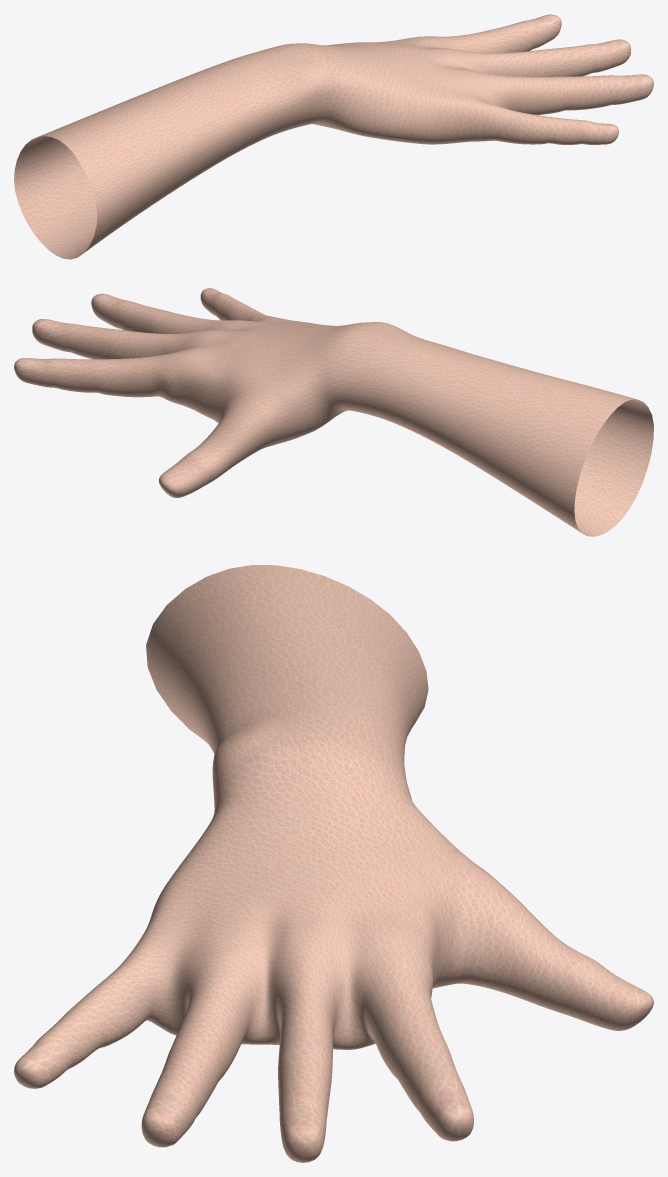
File: maoe.glb
3 renders of one model, top to bottom at view 1: azimuth 30°, elevation 25°; view 2: azimuth 150°, elevation 25°; view 3: azimuth 270°, elevation 25°, orthographic. The views are drawn at different scales.
Parts seen in each view (by area): view 1: HighPoly; view 2: HighPoly; view 3: HighPoly.
Boxes of the visible parts, x1,y1,x2,y2 form: HighPoly: [14, 14, 653, 259]; HighPoly: [14, 288, 653, 536]; HighPoly: [14, 565, 653, 1162].
Size of the model in its own units: 0.0667 by 0.0155 by 0.0369.
Materials: 4 (1 with a texture image).
